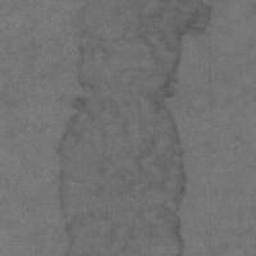Water spot: (51, 0, 214, 256)
